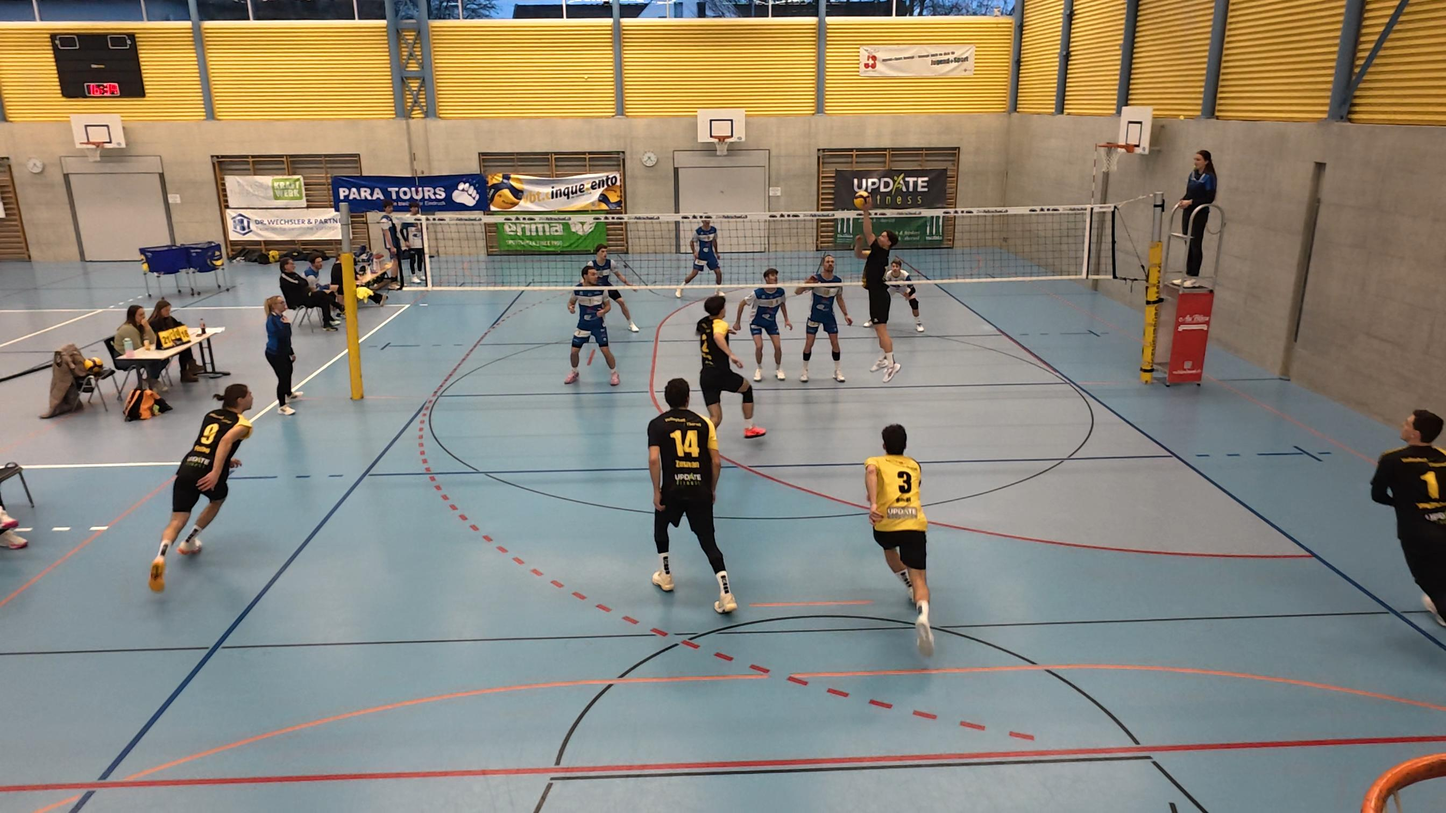alzata: (848, 208, 905, 379)
